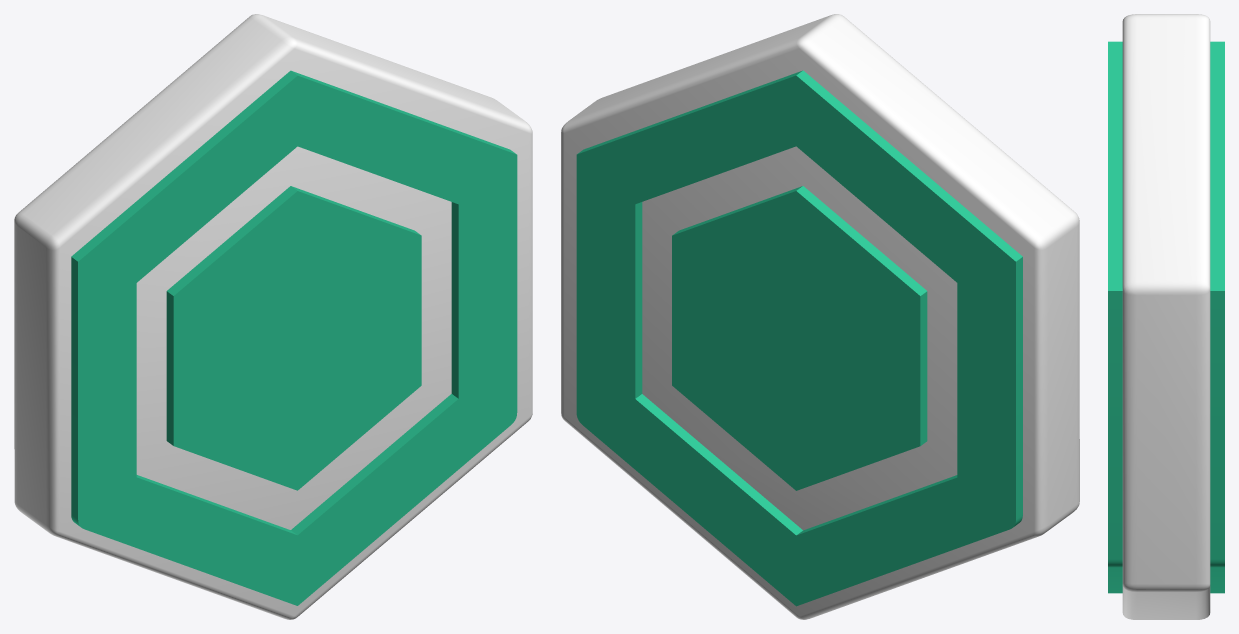
Rendered from coin_2.FBX.
3 renders of one model, left to right at view 1: azimuth 30°, elevation 25°; view 2: azimuth 150°, elevation 25°; view 3: azimuth 270°, elevation 25°, orthographic. The views are drawn at different scales.
Parts seen in each view (by area): view 1: Object003; view 2: Object003; view 3: Object003.
Boxes of the visible parts, <box> form: Object003: <box>14,14,532,619</box>; Object003: <box>561,14,1079,619</box>; Object003: <box>1108,14,1224,619</box>.
Bounding box in the file's own units: 45.34 × 52.01 × 9.13.
